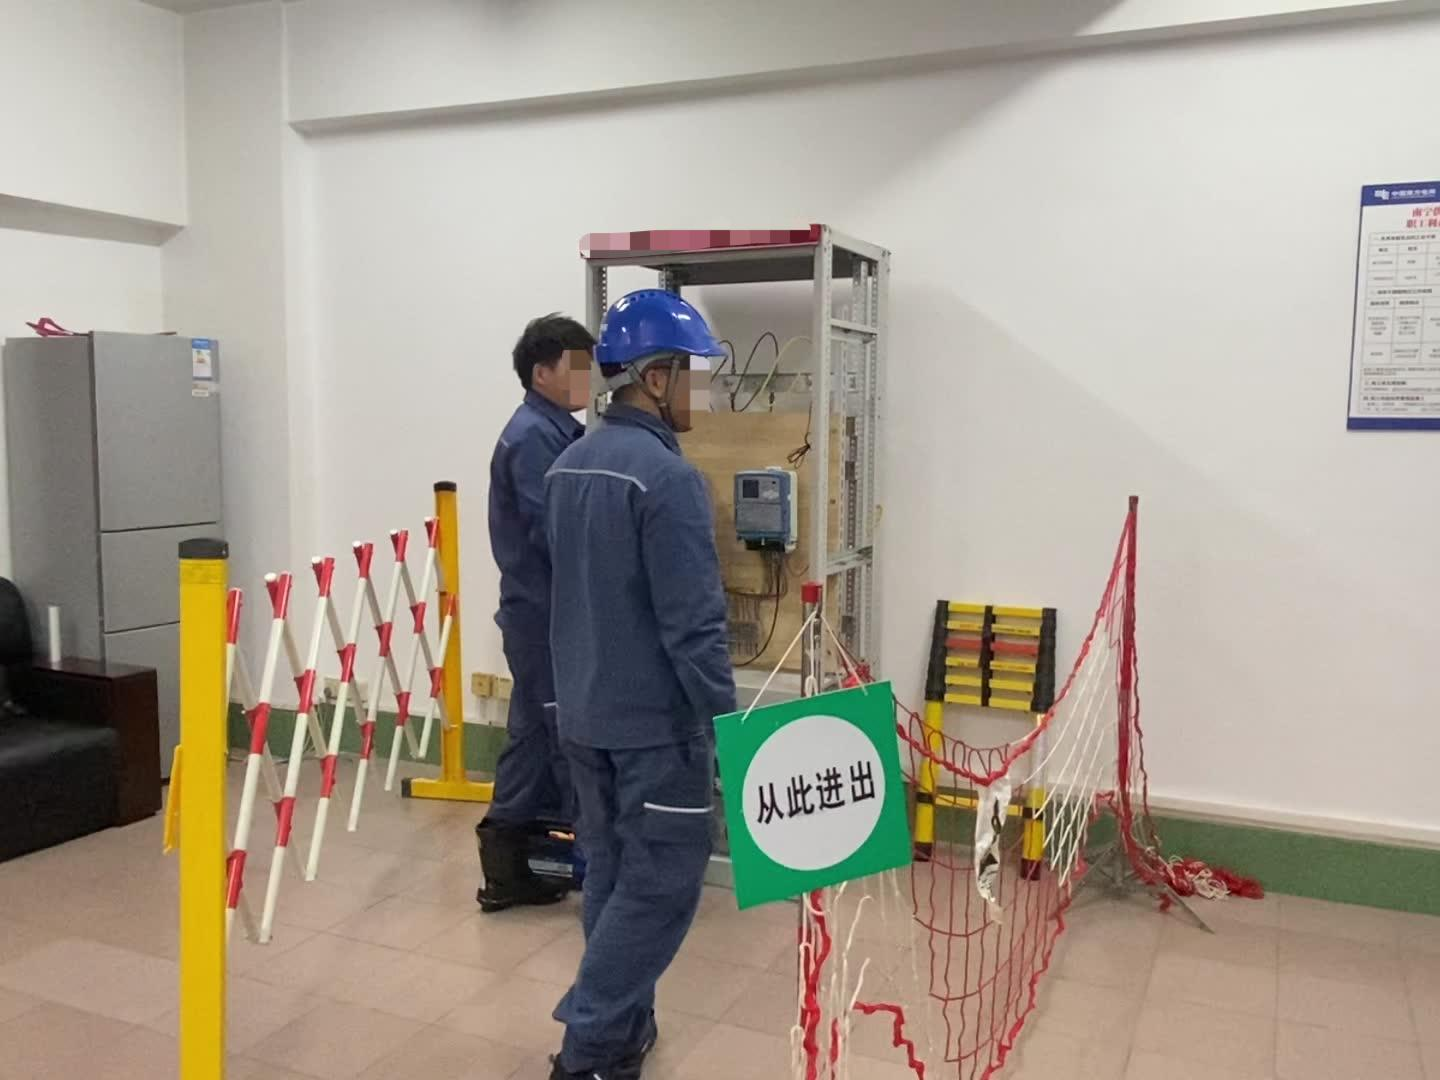halt: (598, 288, 732, 432)
inear: (632, 356, 687, 411)
noear: (530, 356, 568, 399)
unhalt: (514, 318, 605, 413)
